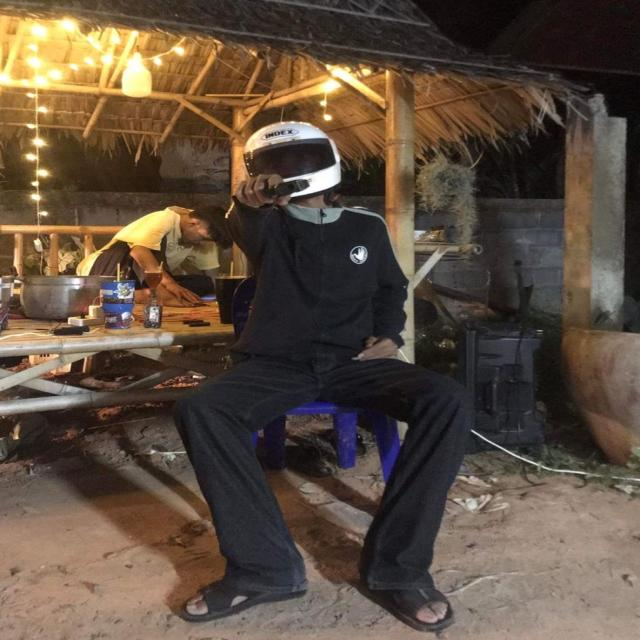gun: (235, 174, 317, 216)
helmet: (236, 120, 357, 207)
